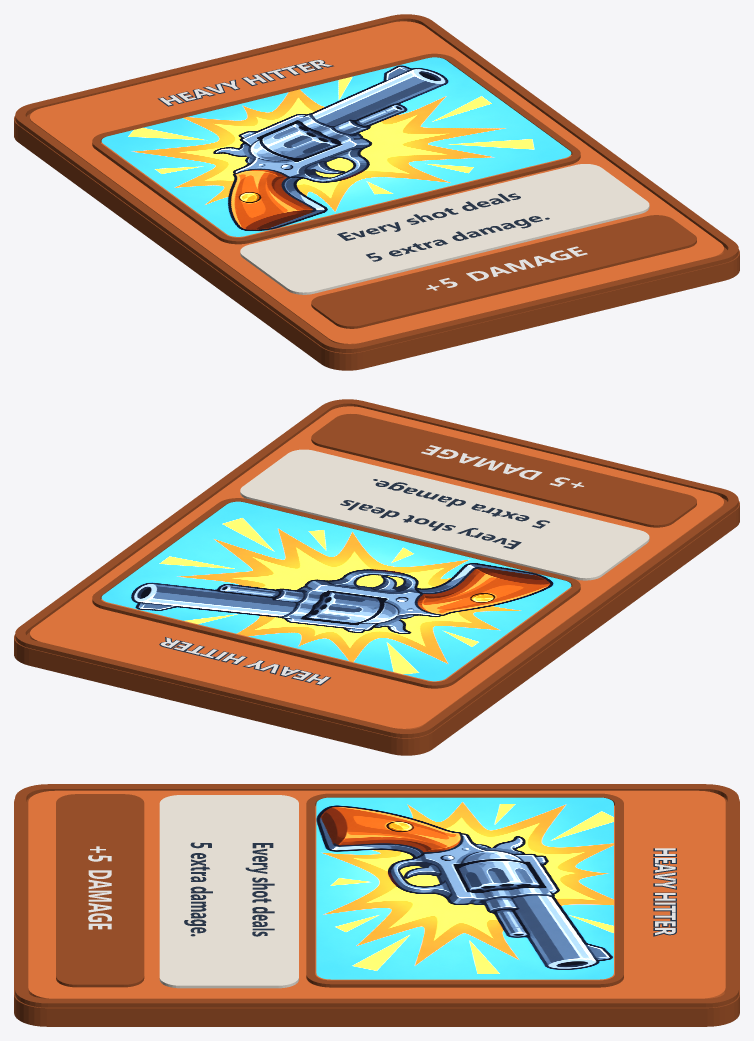
The model's file is card-complete.glb.
3 views of the same model, one above another, from view 1: azimuth 30°, elevation 25°; view 2: azimuth 150°, elevation 25°; view 3: azimuth 270°, elevation 25° (orthographic). The views are drawn at different scales.
Visible parts, largest first — view 1: Card_Artwork_Image, Card_Colored_Face, Card_Description_Panel, Card_Outer_Border, Card_Buff_Panel, Card_Body, Card_Artwork_Frame, Card_Description, Card_Title_Outline, Card_Title, Card_BuffLabel; view 2: Card_Artwork_Image, Card_Colored_Face, Card_Description_Panel, Card_Outer_Border, Card_Buff_Panel, Card_Body, Card_Artwork_Frame, Card_Description, Card_Title_Outline, Card_Title, Card_BuffLabel; view 3: Card_Artwork_Image, Card_Colored_Face, Card_Description_Panel, Card_Outer_Border, Card_Buff_Panel, Card_Body, Card_Artwork_Frame, Card_Description, Card_Title, Card_Title_Outline, Card_BuffLabel.
Boxes of the visible parts, <box> form: Card_Artwork_Image: <box>101,57,571,236</box>; Card_Colored_Face: <box>30,21,723,344</box>; Card_Description_Panel: <box>240,164,649,294</box>; Card_Outer_Border: <box>15,14,738,352</box>; Card_Buff_Panel: <box>311,215,696,328</box>; Card_Body: <box>14,113,739,370</box>; Card_Artwork_Frame: <box>92,53,580,244</box>; Card_Description: <box>337,193,549,261</box>; Card_Title_Outline: <box>157,59,333,106</box>; Card_Title: <box>159,60,331,105</box>; Card_BuffLabel: <box>466,246,587,281</box>; Card_Artwork_Image: <box>101,501,571,681</box>; Card_Colored_Face: <box>30,406,723,729</box>; Card_Description_Panel: <box>240,449,649,580</box>; Card_Outer_Border: <box>15,399,738,737</box>; Card_Buff_Panel: <box>311,414,696,527</box>; Card_Body: <box>14,498,739,755</box>; Card_Artwork_Frame: <box>92,498,580,688</box>; Card_Description: <box>340,479,549,549</box>; Card_Title_Outline: <box>159,637,330,685</box>; Card_Title: <box>160,637,329,684</box>; Card_BuffLabel: <box>421,445,542,479</box>; Card_Artwork_Image: <box>316,797,613,979</box>; Card_Colored_Face: <box>28,790,725,998</box>; Card_Description_Panel: <box>159,795,298,988</box>; Card_Outer_Border: <box>15,784,738,1007</box>; Card_Buff_Panel: <box>56,794,144,987</box>; Card_Body: <box>14,796,739,1026</box>; Card_Artwork_Frame: <box>306,793,623,987</box>; Card_Description: <box>184,842,274,936</box>; Card_Title: <box>655,848,675,934</box>; Card_Title_Outline: <box>653,848,676,936</box>; Card_BuffLabel: <box>88,870,111,929</box>.
Bounding box in the file's own units: 2.54 × 0.175 × 3.54.
6 materials, 1 textured.
